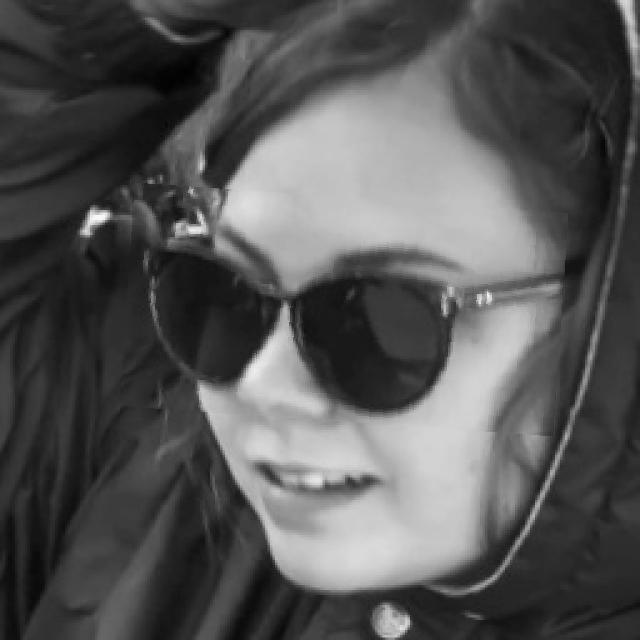glasses: (123, 191, 564, 429)
